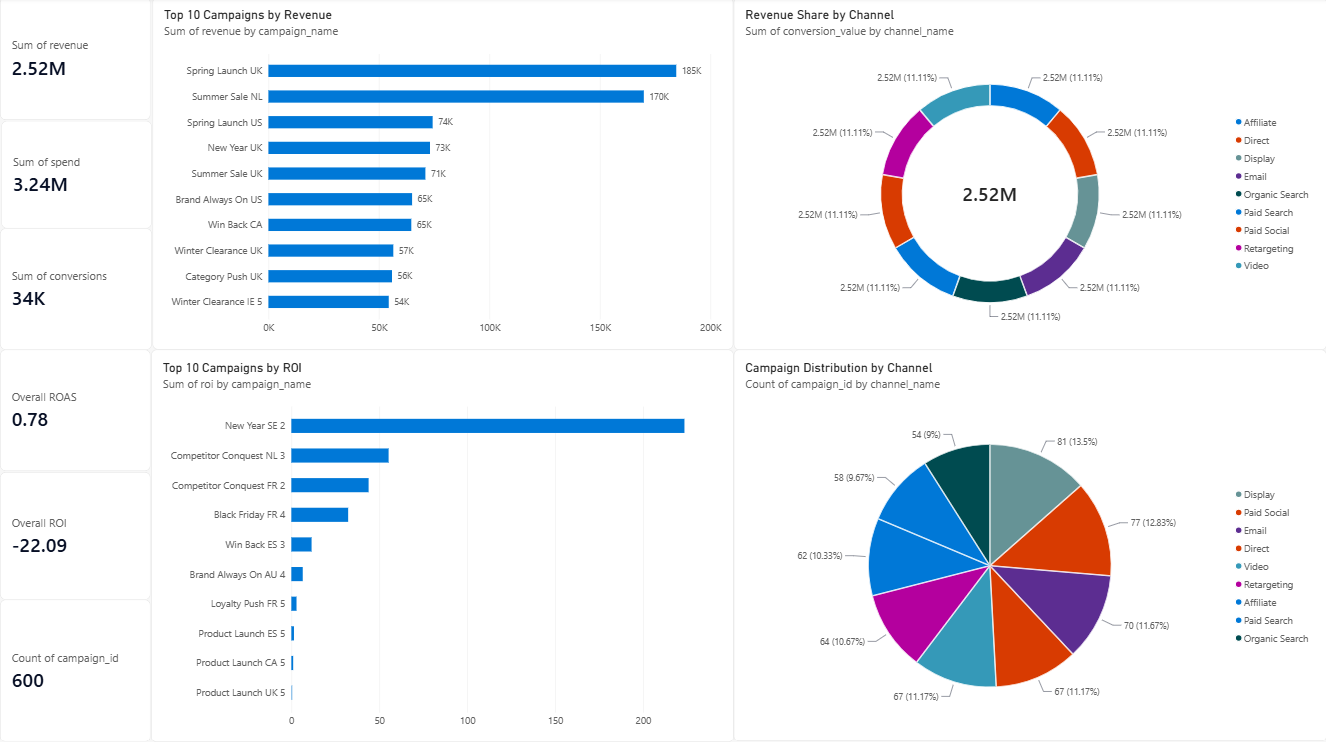

This screenshot's page, from the dashboard's own definition file:
{"tool":"powerbi","page":{"name":"Campaign Overview","canvas":[1920,1080],"ordinal":0},"visuals":[{"type":"cardVisual","fields":{"Data":["Sum(campaign_performance.revenue)"]},"box":[0,0,218.7,178.3],"z":0},{"type":"cardVisual","fields":{"Data":["Sum(campaign_performance.spend)"]},"box":[1.8,178.3,218.7,156.2],"z":1},{"type":"cardVisual","fields":{"Data":["Sum(campaign_performance.conversions)"]},"box":[0,334.5,220.5,176.4],"z":2},{"type":"cardVisual","fields":{"Data":["attribution_change.Overall ROAS"]},"box":[0,510.9,218.7,176.4],"z":3},{"type":"cardVisual","fields":{"Data":["attribution_change.Overall ROI"]},"box":[0,687.3,218.7,185.6],"z":4},{"type":"cardVisual","fields":{"Data":["Count(campaign_performance.campaign_id)"]},"box":[0,872.9,218.7,207.7],"z":5},{"type":"clusteredBarChart","title":"Top 10 Campaigns by Revenue","fields":{"Category":["campaign_performance.campaign_name"],"Y":["Sum(campaign_performance.revenue)"]},"box":[221.2,0,840.9,510.2],"z":6},{"type":"clusteredBarChart","title":"Top 10 Campaigns by ROI","fields":{"Category":["campaign_performance.campaign_name"],"Y":["Sum(campaign_performance.roi)"]},"box":[219,510.2,843.1,569.3],"z":7},{"type":"donutChart","title":"Revenue Share by Channel","fields":{"Category":["campaign_performance.channel_name"],"Y":["Sum(channel_performance.conversion_value)"]},"box":[1062.2,0,858.2,510.9],"z":8},{"type":"pieChart","title":"Campaign Distribution by Channel","fields":{"Category":["campaign_performance.channel_name"],"Y":["Count(campaign_performance.campaign_id)"]},"box":[1062,511,858,568],"z":9}]}

Visuals, with their boxes in screenshot pixels (x1, y1, x2, y2), scaled from the page's 1920x1080 canvas onto the 1326x742 screenshot:
cardVisual - Sum(campaign_performance.revenue): locate(0, 0, 151, 122)
cardVisual - Sum(campaign_performance.spend): locate(1, 122, 152, 230)
cardVisual - Sum(campaign_performance.conversions): locate(0, 230, 152, 351)
cardVisual - attribution_change.Overall ROAS: locate(0, 351, 151, 472)
cardVisual - attribution_change.Overall ROI: locate(0, 472, 151, 600)
cardVisual - Count(campaign_performance.campaign_id): locate(0, 600, 151, 741)
"Top 10 Campaigns by Revenue" clusteredBarChart: locate(153, 0, 734, 351)
"Top 10 Campaigns by ROI" clusteredBarChart: locate(151, 351, 734, 741)
"Revenue Share by Channel" donutChart: locate(734, 0, 1325, 351)
"Campaign Distribution by Channel" pieChart: locate(733, 351, 1325, 741)
